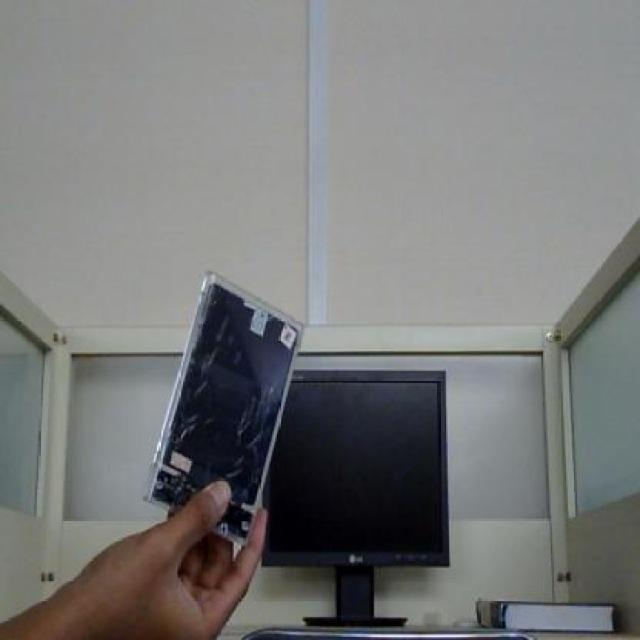Plastic: (138, 260, 310, 548)
